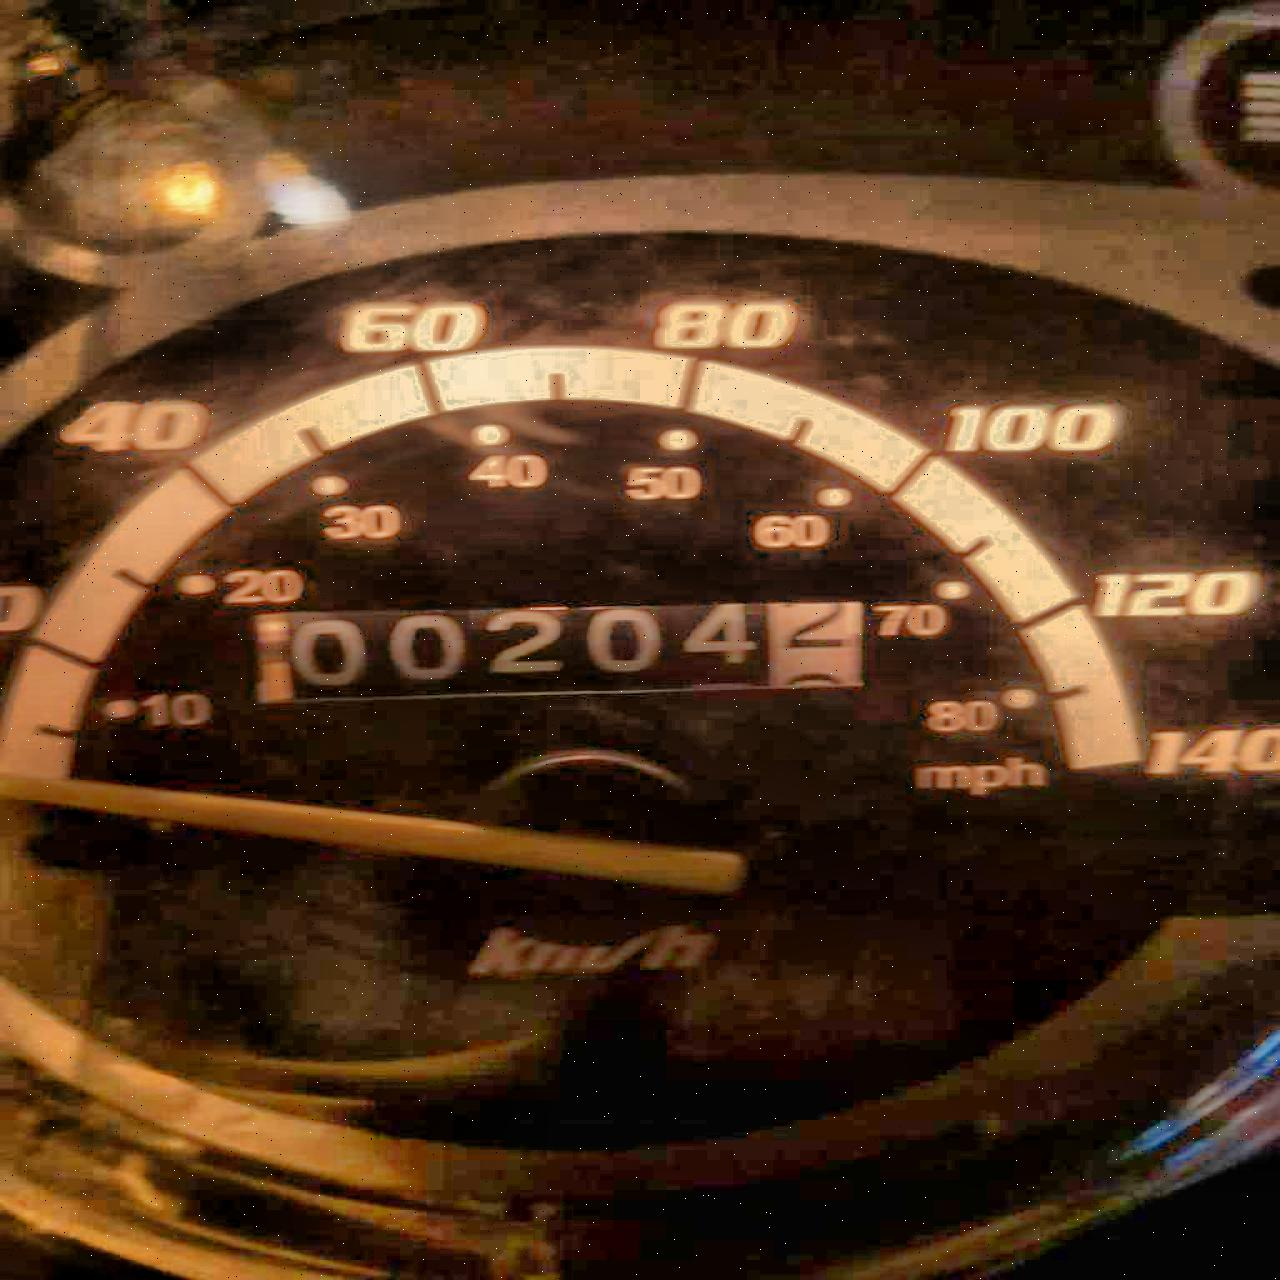0: (285, 608, 365, 692), (388, 608, 469, 682), (585, 601, 660, 680)
2: (482, 604, 566, 679), (771, 591, 856, 665)
4: (683, 599, 760, 667)
odometer: (260, 591, 880, 709)
